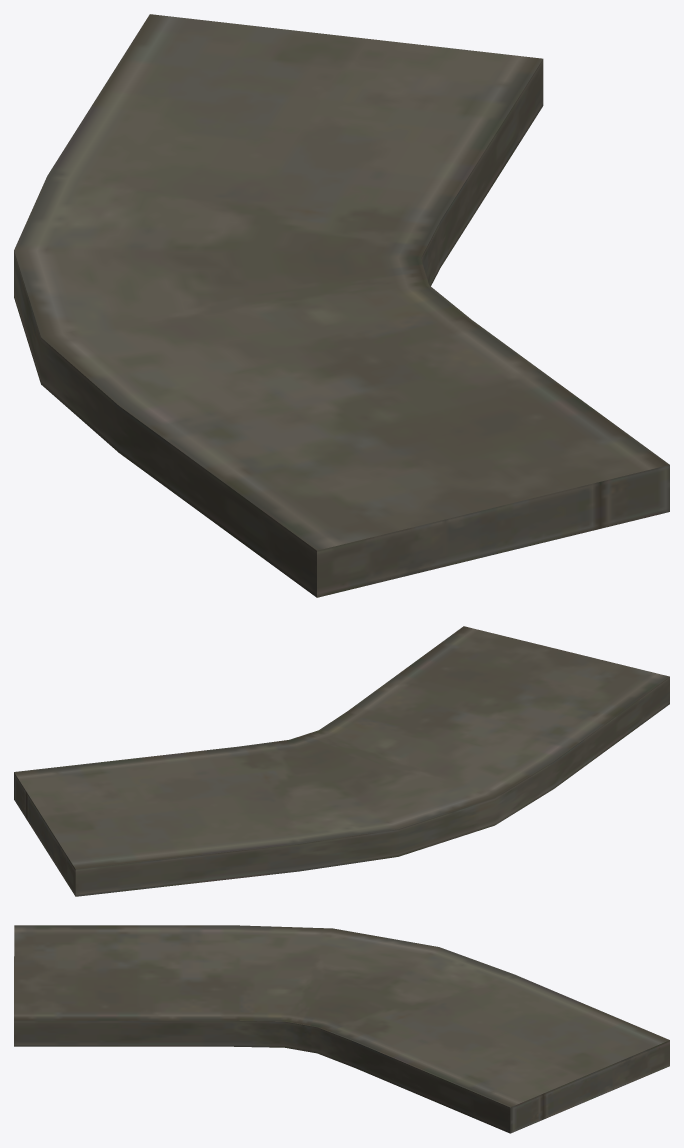
File: lab_floor_broken_small_piece_turn.dae
3 views of the same model, one above another, from view 1: azimuth 30°, elevation 25°; view 2: azimuth 150°, elevation 25°; view 3: azimuth 270°, elevation 25° (orthographic). The views are drawn at different scales.
Visible parts, largest first — view 1: pCube2; view 2: pCube2; view 3: pCube2.
Boxes of the visible parts, x1,y1,x2,y2 form: pCube2: (14,14,669,597); pCube2: (14,626,669,896); pCube2: (14,925,669,1133).
Size of the model in its own units: 0.324 by 0.0216 by 0.4928.
